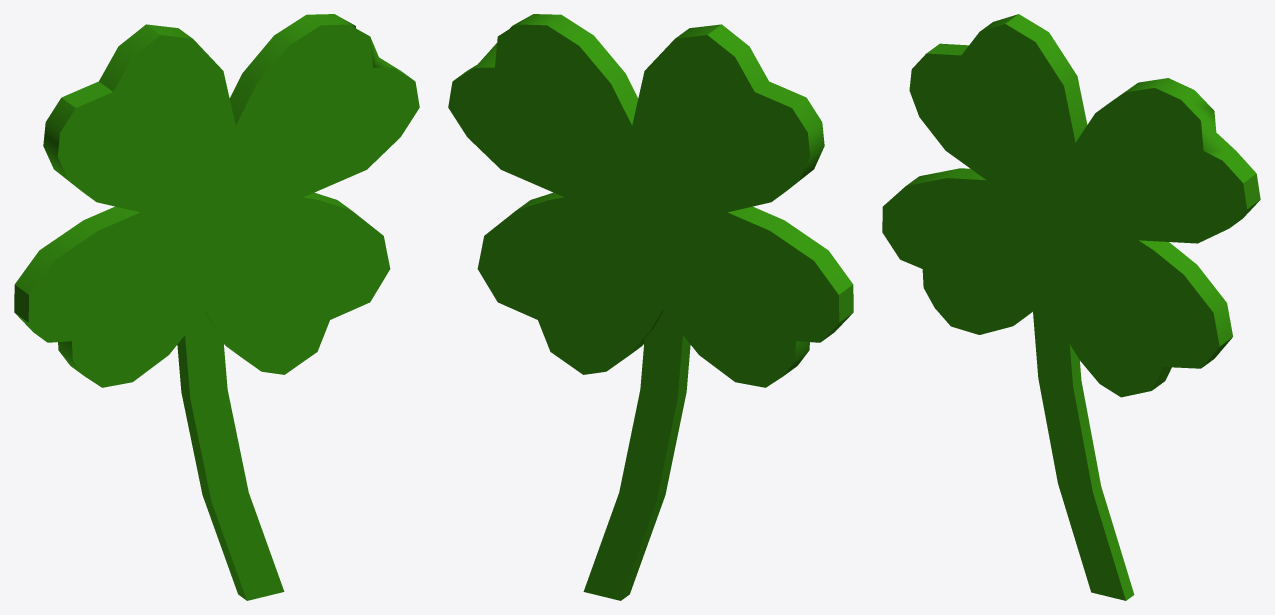
File: Lucky_Trinket.fbx
3 views of the same model, side by side, from view 1: azimuth 30°, elevation 25°; view 2: azimuth 150°, elevation 25°; view 3: azimuth 330°, elevation 25° (orthographic). The views are drawn at different scales.
Parts seen in each view (by area): view 1: Clover, Stem; view 2: Clover, Stem; view 3: Clover, Stem.
Part boxes in pixels (box(x1,y1,x2,y2)): Clover: box(14, 14, 419, 387); Stem: box(177, 311, 284, 600); Clover: box(448, 14, 853, 387); Stem: box(583, 311, 690, 600); Clover: box(882, 14, 1260, 397); Stem: box(1033, 301, 1134, 600).
Bounding box in the file's own units: 19.12 × 27.54 × 1.22.
1 material, 1 textured.
